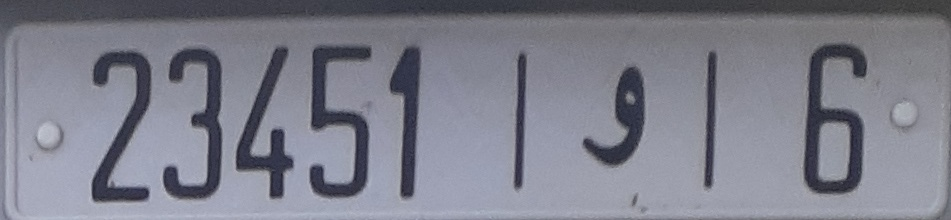1: (386, 38, 431, 204)
2: (85, 46, 157, 206)
3: (157, 46, 229, 204)
4: (231, 43, 301, 204)
5: (305, 40, 373, 205)
6: (802, 39, 875, 199)
waw: (579, 65, 650, 171)
